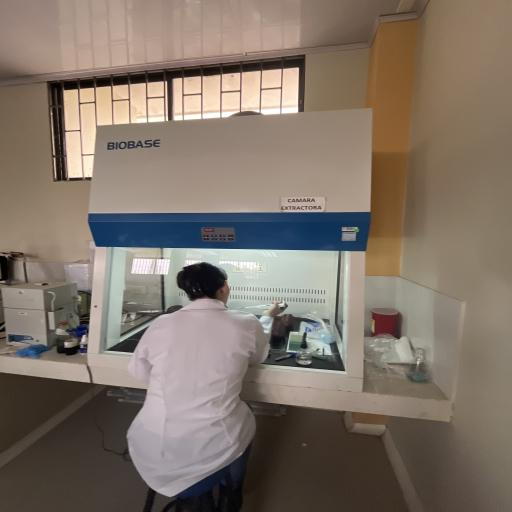Camara_Extractora_Biobase: (70, 100, 382, 411)
